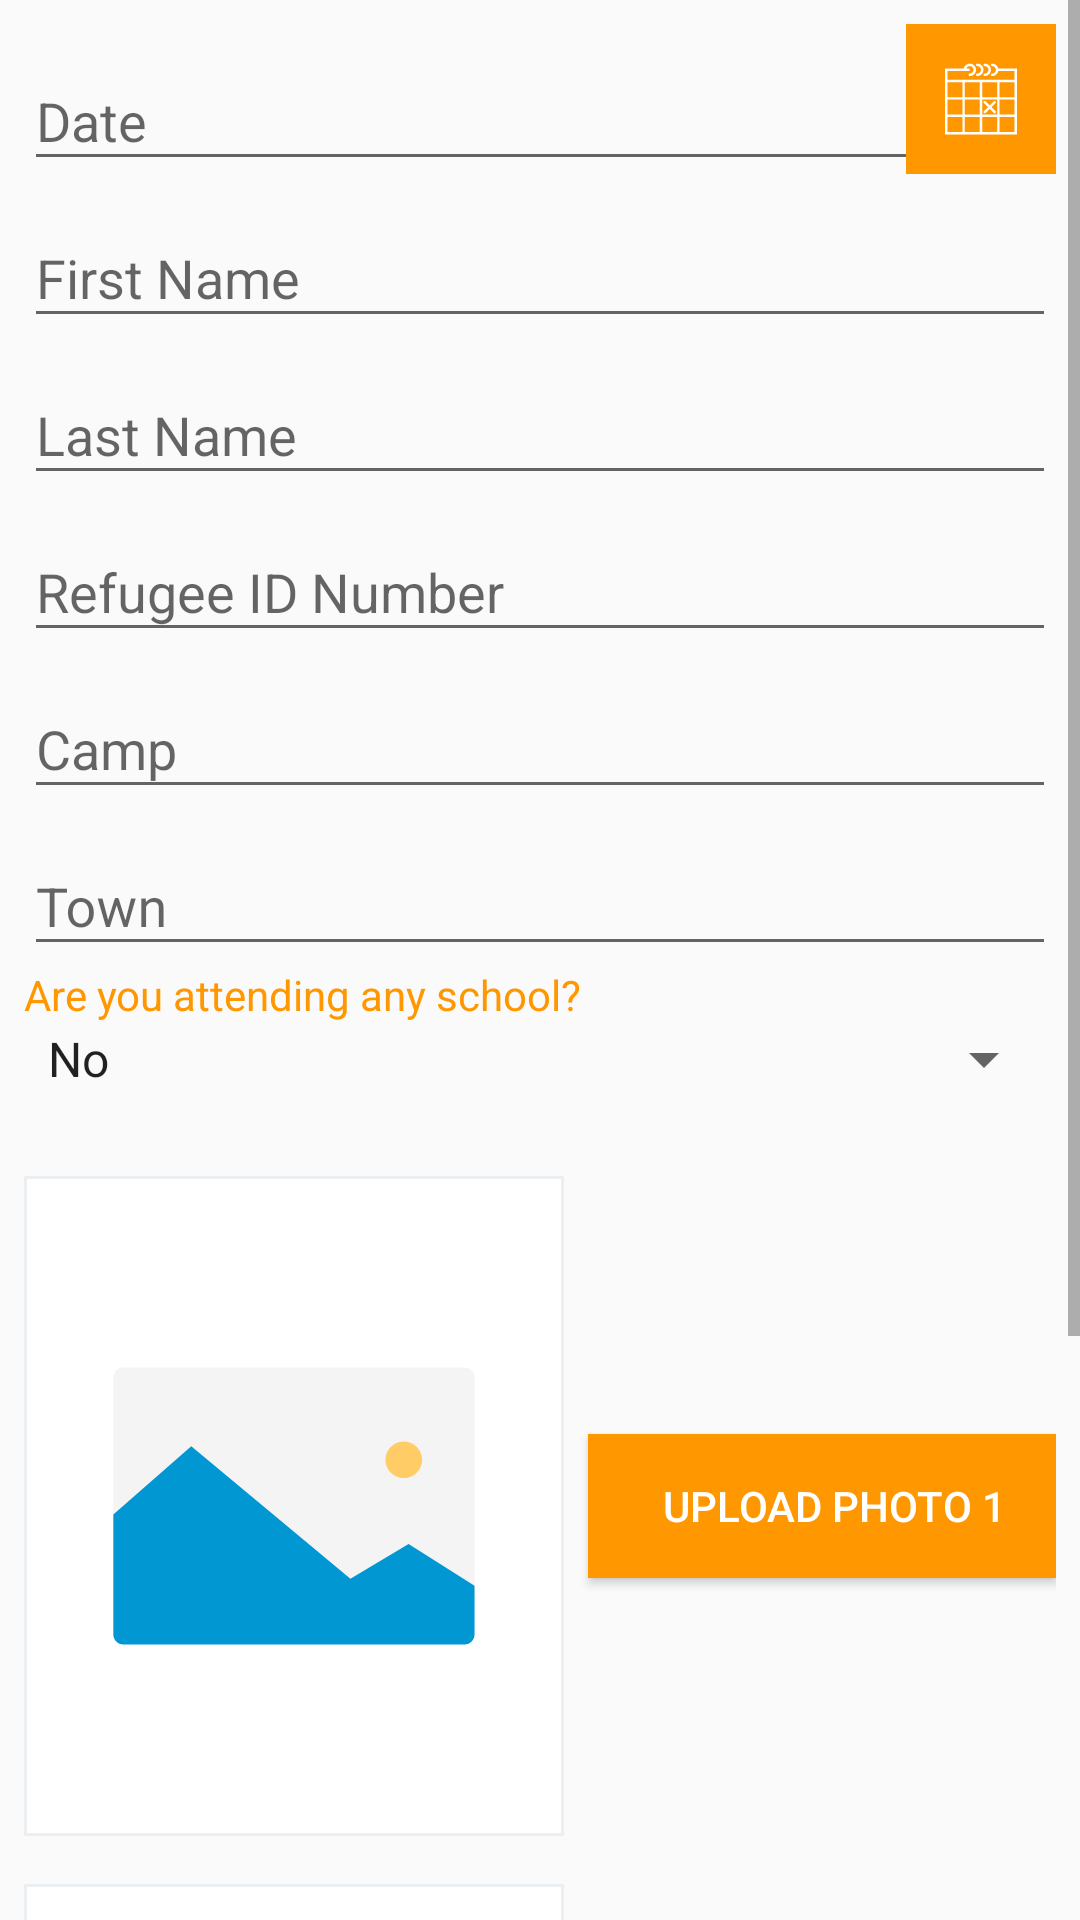

Screen size 1080px x 1920px. Icon name, then its box in pixels as (x1=x1, y1=y1, x2=x2, y2=y2):
calendar: (x1=906, y1=24, x2=1056, y2=174)
